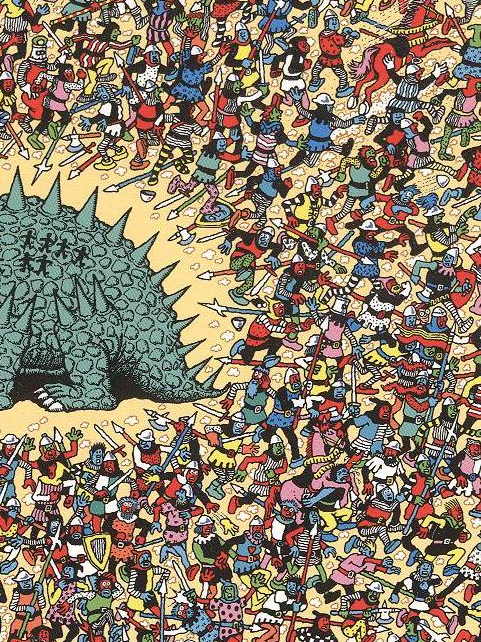waldo: (412, 300, 431, 325)
